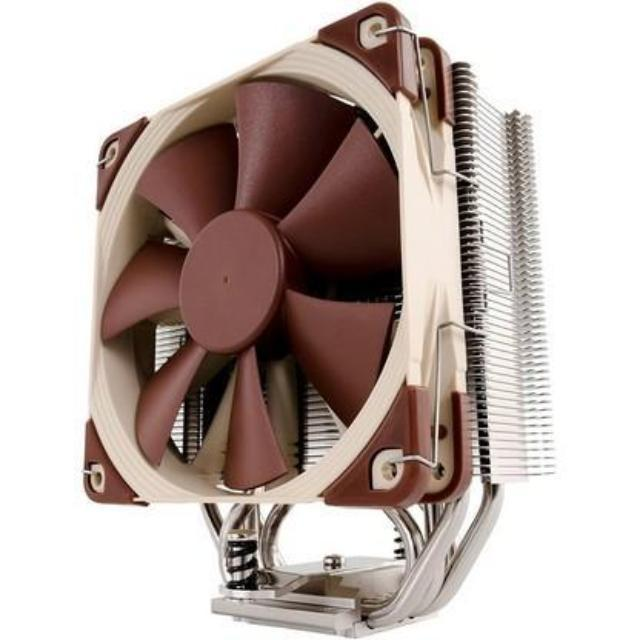CPU_Fan: (86, 12, 543, 626)
